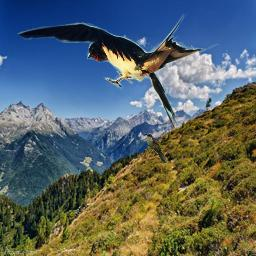Cuckoo: (144, 133, 167, 164)
Swallow: (14, 13, 237, 130)
